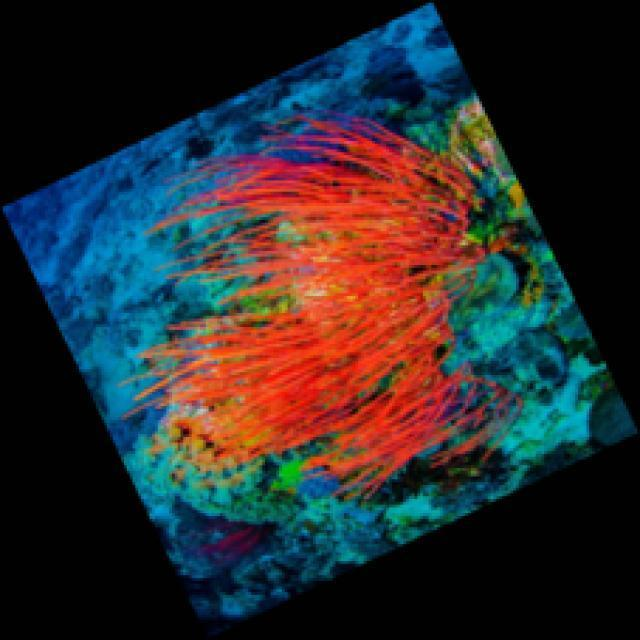Healthy: (122, 112, 527, 514)
